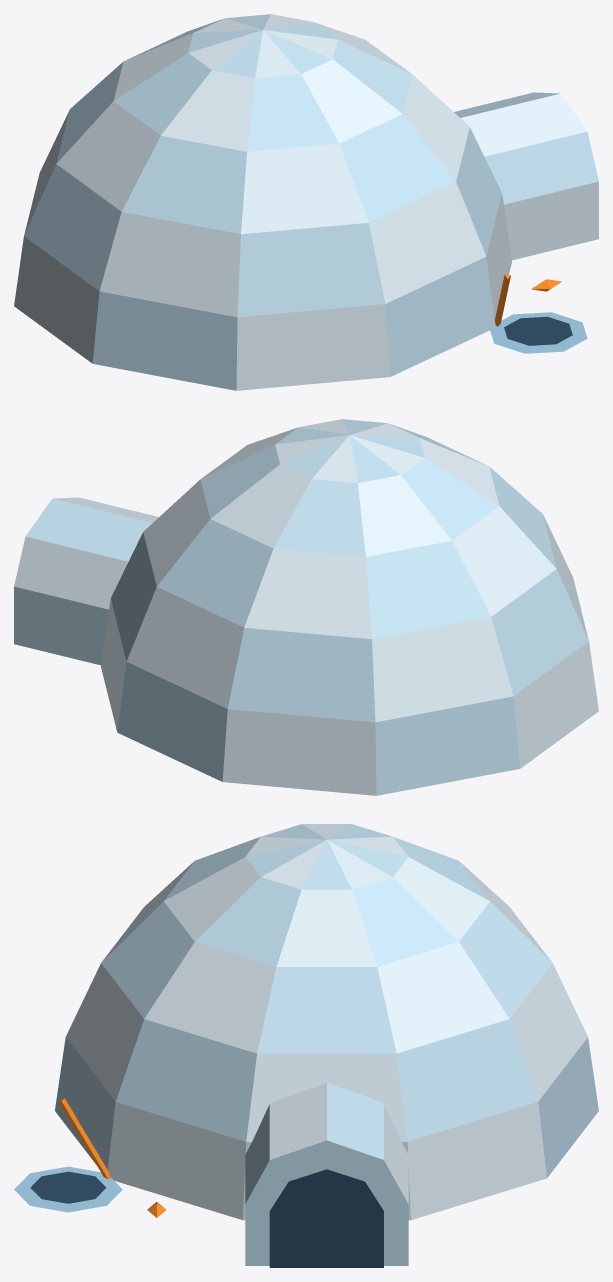
Rendered from ice_hut.glb.
The picture shows the model from 3 angles, top to bottom: view 1: azimuth 30°, elevation 25°; view 2: azimuth 150°, elevation 25°; view 3: azimuth 270°, elevation 25°; orthographic projection. The views are drawn at different scales.
Visible parts, largest first — view 1: ice_hut; view 2: ice_hut; view 3: ice_hut.
Part boxes in pixels (x1=…): ice_hut: x1=14, y1=14, x2=598, y2=390; ice_hut: x1=14, y1=419, x2=598, y2=795; ice_hut: x1=14, y1=824, x2=598, y2=1267.
Size of the model in its own units: 0.4632 by 0.2215 by 0.43.
